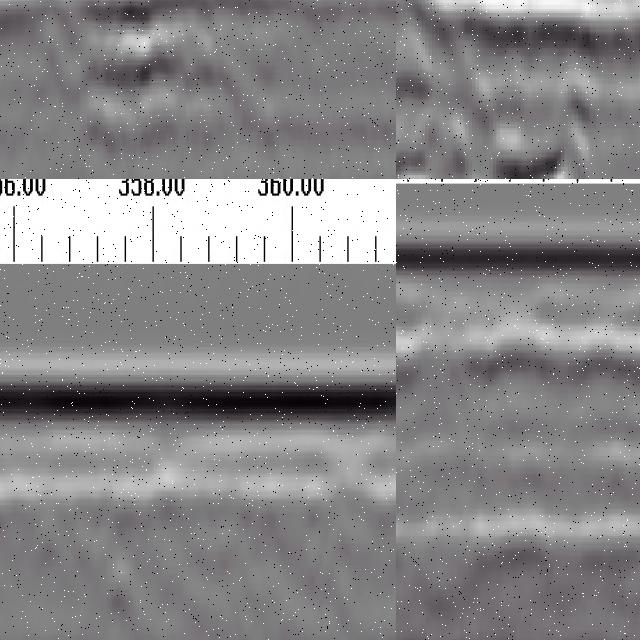crack: (397, 323, 417, 573)
loose: (397, 1, 640, 180), (74, 1, 263, 139)
